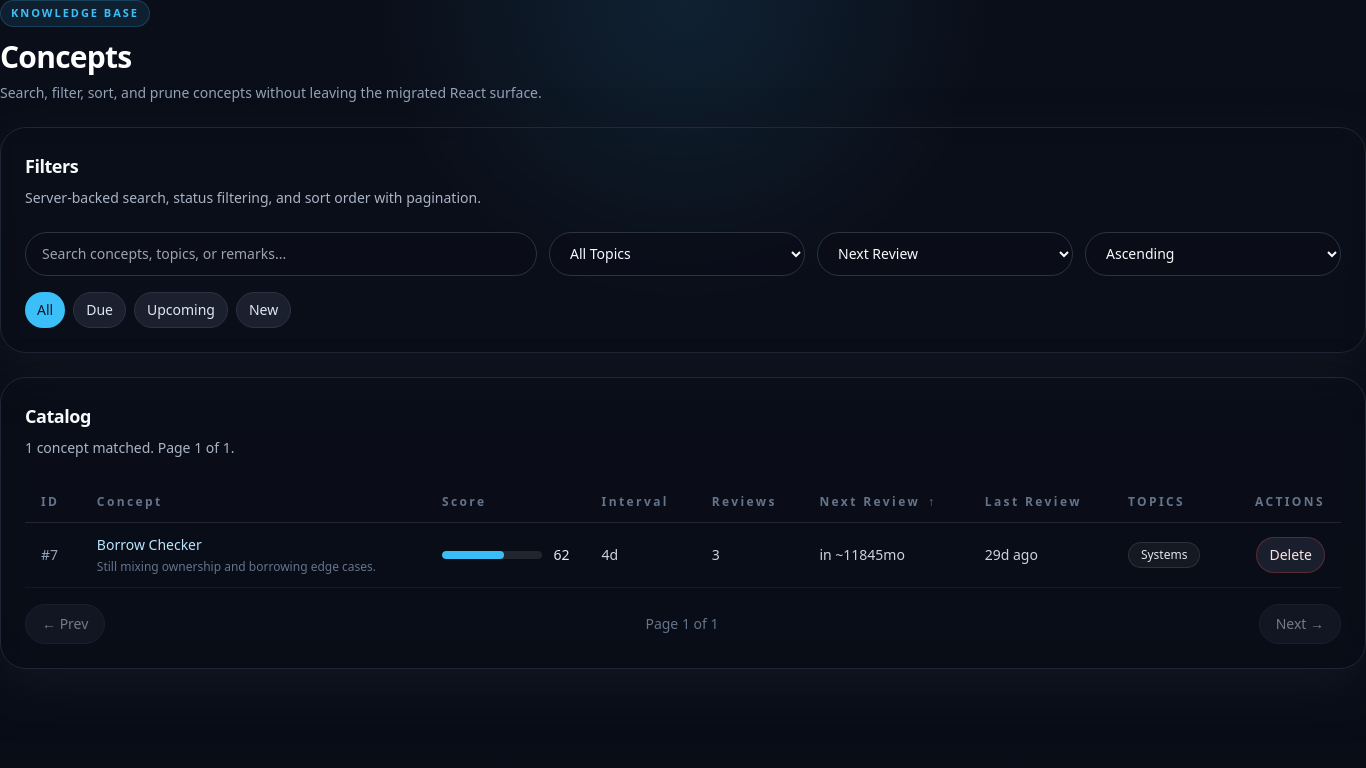
Test: ConceptsListPage › renders concepts and deletes a concept after confirmation
Check: the heading "Concepts" is shown, box x1=0 y1=36 x2=132 y2=76
Check: the link "Borrow Checker" is shown, box x1=97 y1=534 x2=202 y2=554
Click the button "Systems": click(1164, 554) x1=1128 y1=542 x2=1200 y2=568
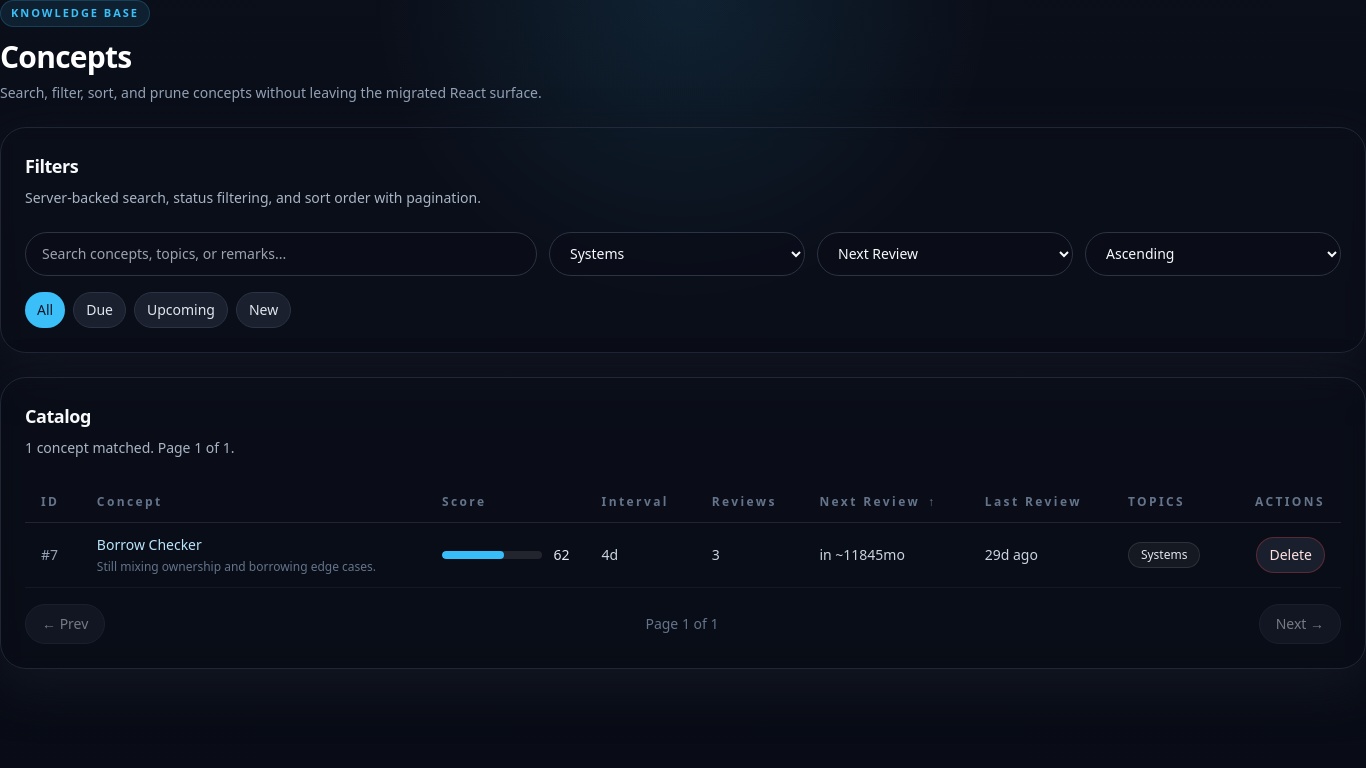
Check: the 1st dropdown showing "Systems" is shown, box x1=549 y1=232 x2=805 y2=276
Click the button "Delete": click(1291, 554) x1=1256 y1=536 x2=1325 y2=572
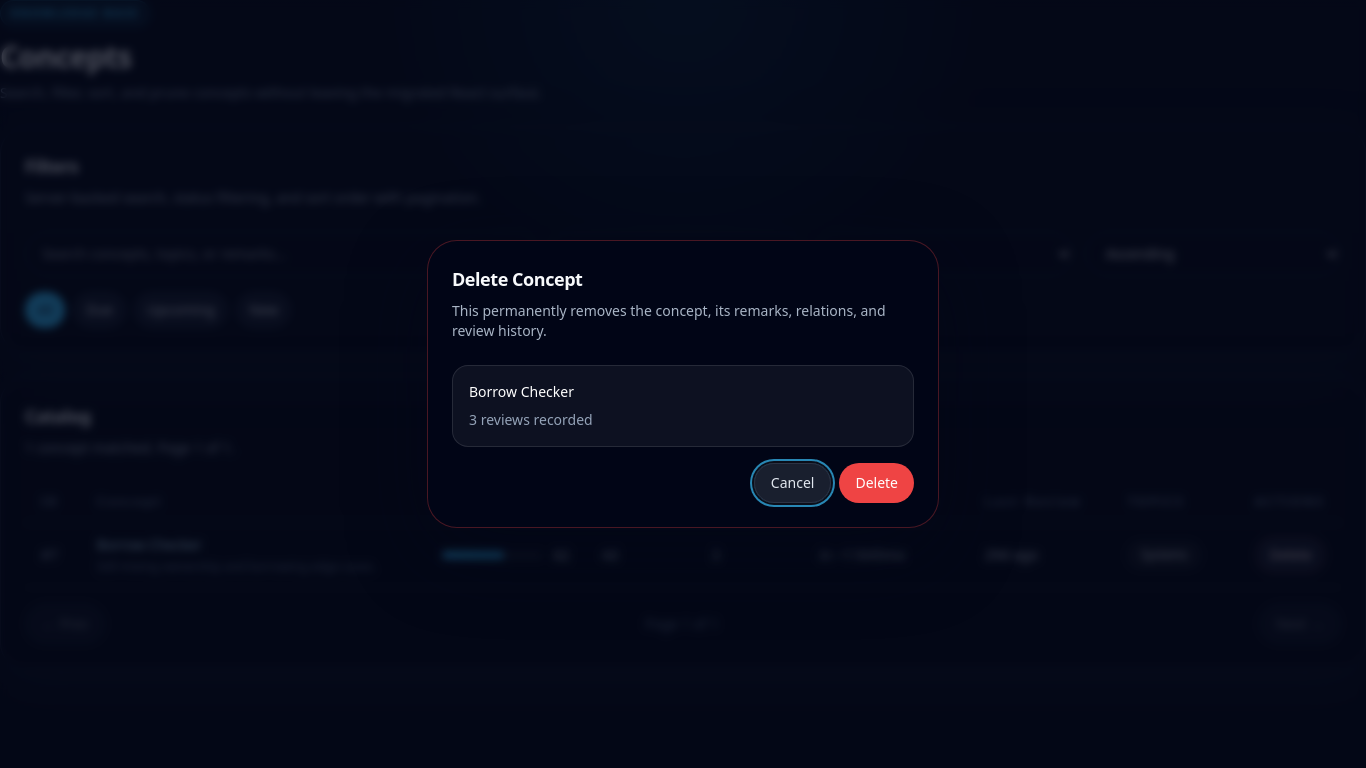
Check: the heading "Delete Concept" is shown, box x1=452 y1=267 x2=582 y2=291
Click the button "Delete": click(877, 483) x1=839 y1=463 x2=914 y2=503
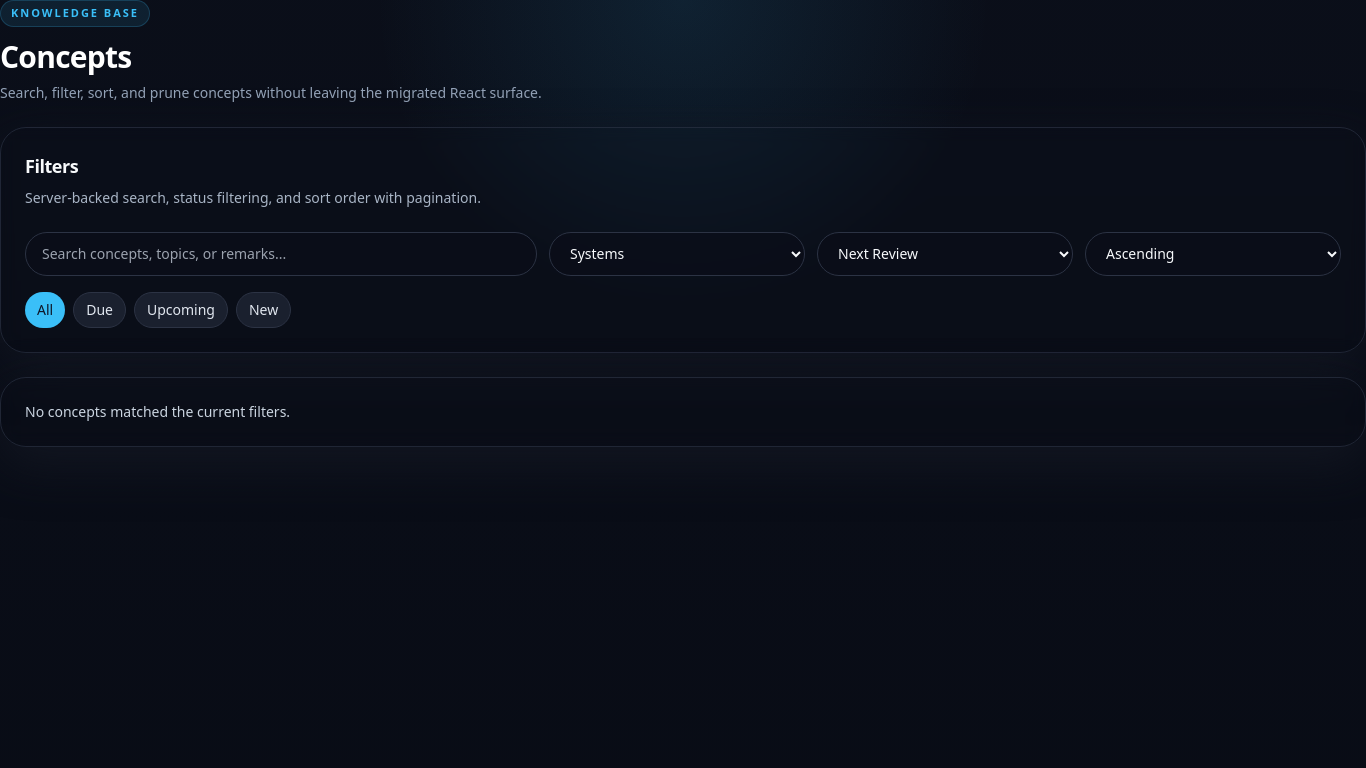
Check: the link "Borrow Checker" is not shown
Check: the text "No concepts matched the current filters." is shown, box x1=25 y1=402 x2=290 y2=420
